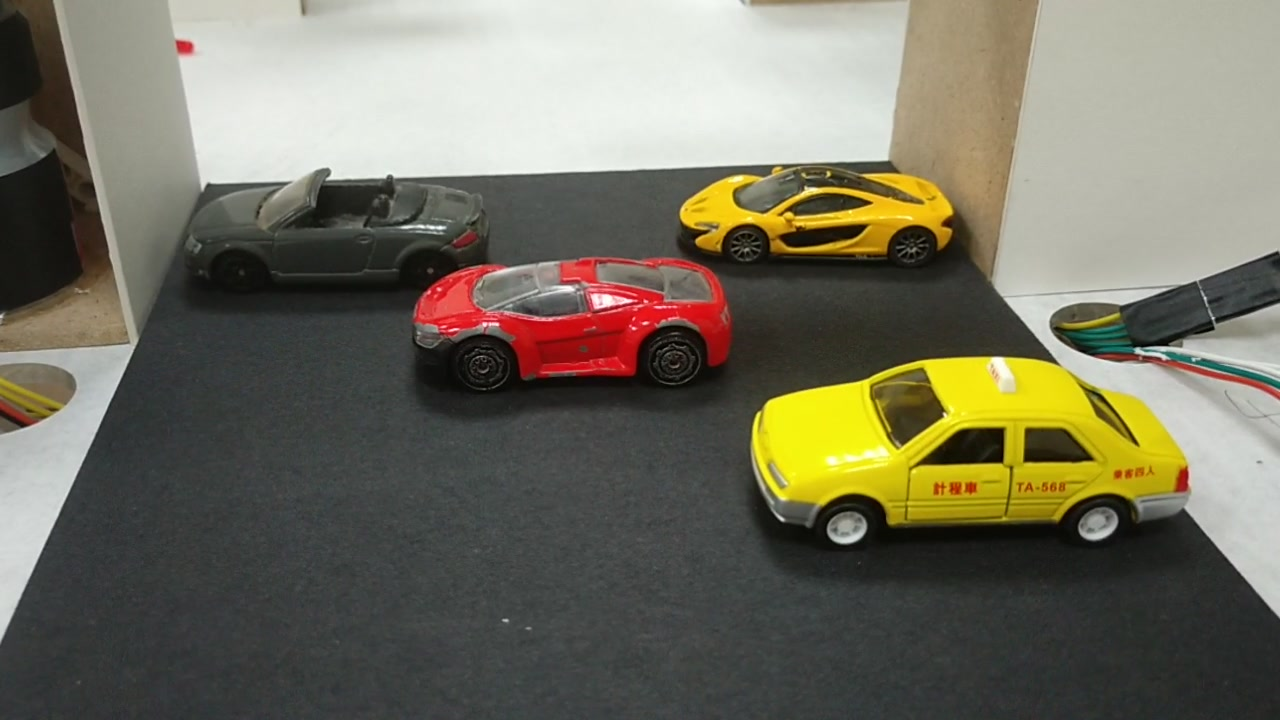car: (749, 364, 1191, 544), (415, 261, 726, 384), (190, 188, 481, 285), (674, 172, 952, 269)
